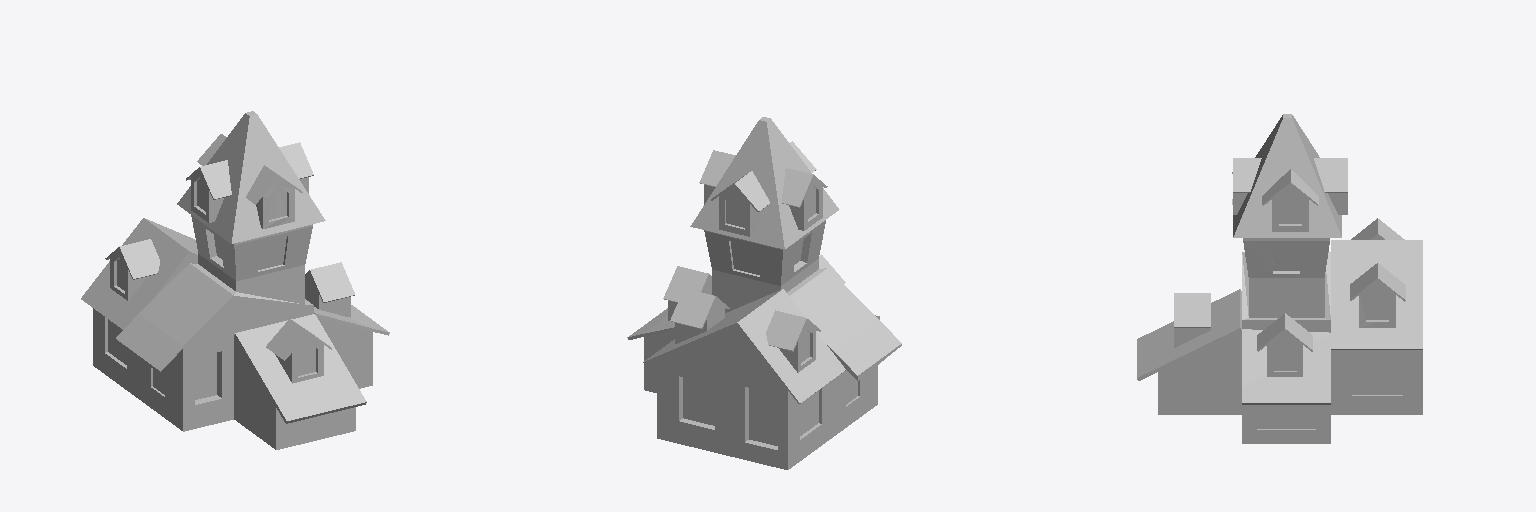
The model's file is house.obj.
The picture shows the model from 3 angles: view 1: azimuth 30°, elevation 25°; view 2: azimuth 150°, elevation 25°; view 3: azimuth 270°, elevation 25°; orthographic projection.
Parts seen in each view (by area): view 1: ZBrushPolyMesh3D_1_Mesh.003; view 2: ZBrushPolyMesh3D_1_Mesh.003; view 3: ZBrushPolyMesh3D_1_Mesh.003.
Part boxes in pixels (left/top/right/bottom): ZBrushPolyMesh3D_1_Mesh.003: left=81, top=111, right=389, bottom=449; ZBrushPolyMesh3D_1_Mesh.003: left=627, top=117, right=901, bottom=469; ZBrushPolyMesh3D_1_Mesh.003: left=1137, top=114, right=1422, bottom=443.
Bounding box in the file's own units: 0.3153 × 0.3658 × 0.3401.